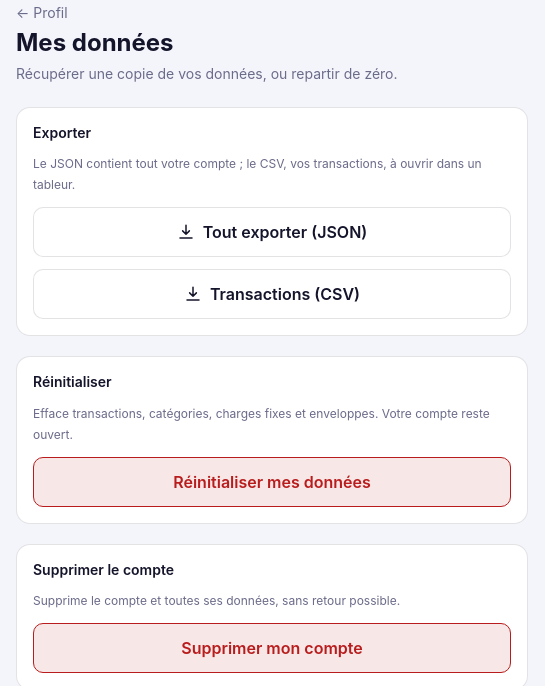
Test case: DataPage › affiche l'erreur si l'export échoue
Click the button "Tout exporter (JSON)": (272,232) [33,207,511,257]
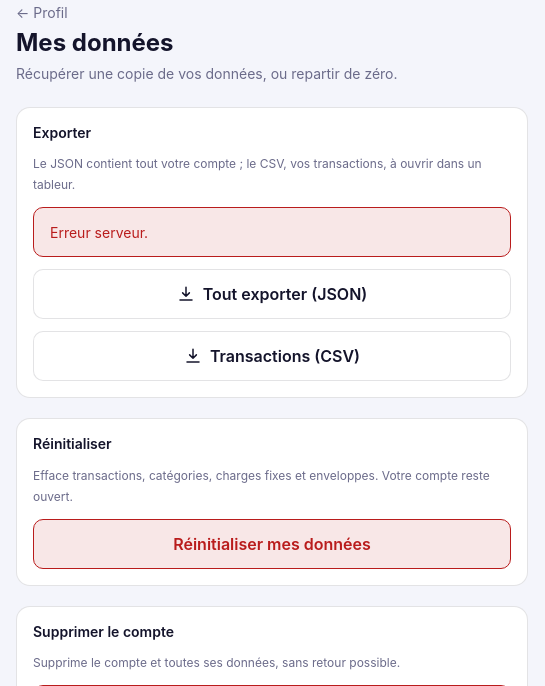
expect the message "Erreur serveur." is shown: met, box [33,207,511,257]
